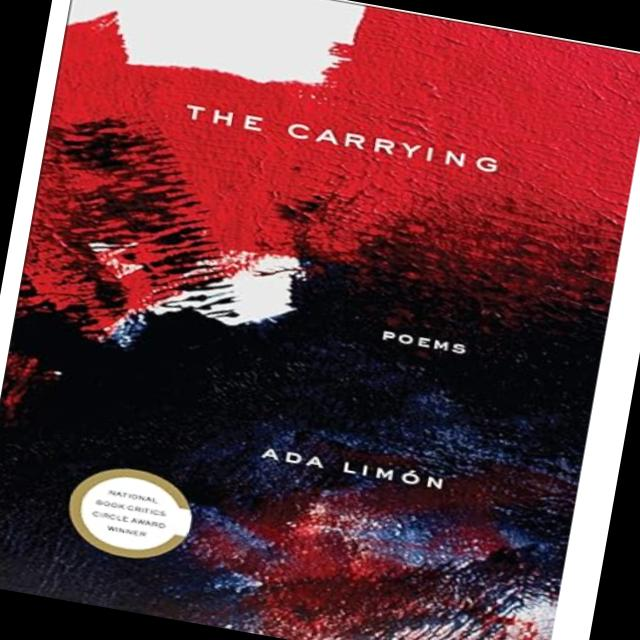titles-or-authors: (164, 89, 516, 185), (245, 434, 458, 504)
